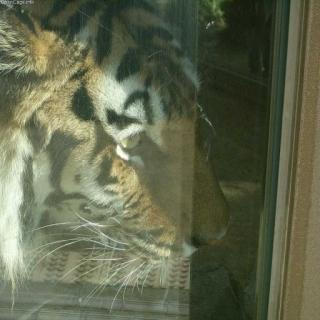Tiger: (2, 9, 246, 263)
